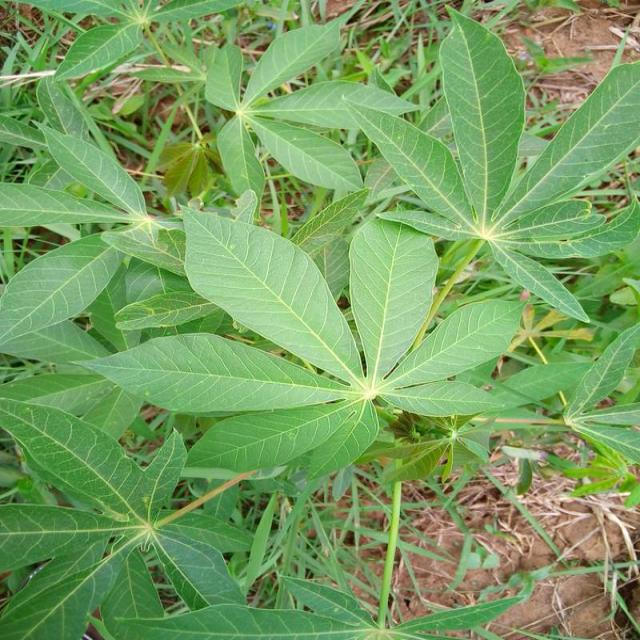cassava leaf: (2, 2, 640, 637), (182, 205, 366, 387), (439, 4, 527, 230), (349, 216, 440, 386)
